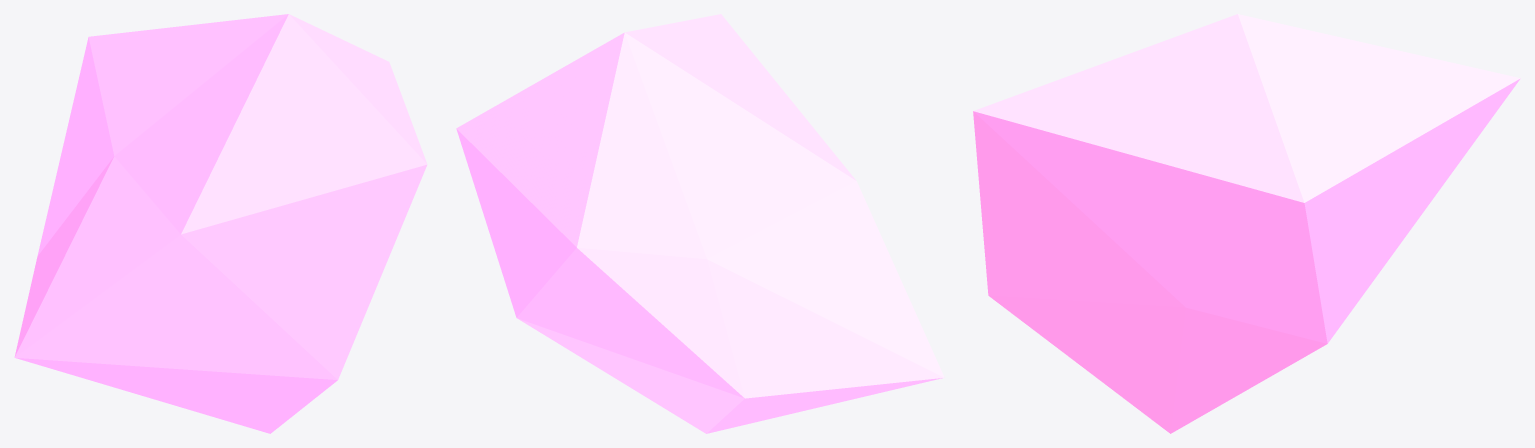
Rendered from StoneShard_Boost.glb.
3 views of the same model, side by side, from view 1: azimuth 30°, elevation 25°; view 2: azimuth 150°, elevation 25°; view 3: azimuth 270°, elevation 25° (orthographic). The views are drawn at different scales.
Visible parts, largest first — view 1: StoneShard_Boost; view 2: StoneShard_Boost; view 3: StoneShard_Boost.
Boxes of the visible parts, left/top/right/bottom form: StoneShard_Boost: left=14, top=14, right=427, bottom=433; StoneShard_Boost: left=456, top=14, right=944, bottom=433; StoneShard_Boost: left=973, top=14, right=1520, bottom=433.
Bounding box in the file's own units: 0.5848 × 0.5188 × 0.5765.
